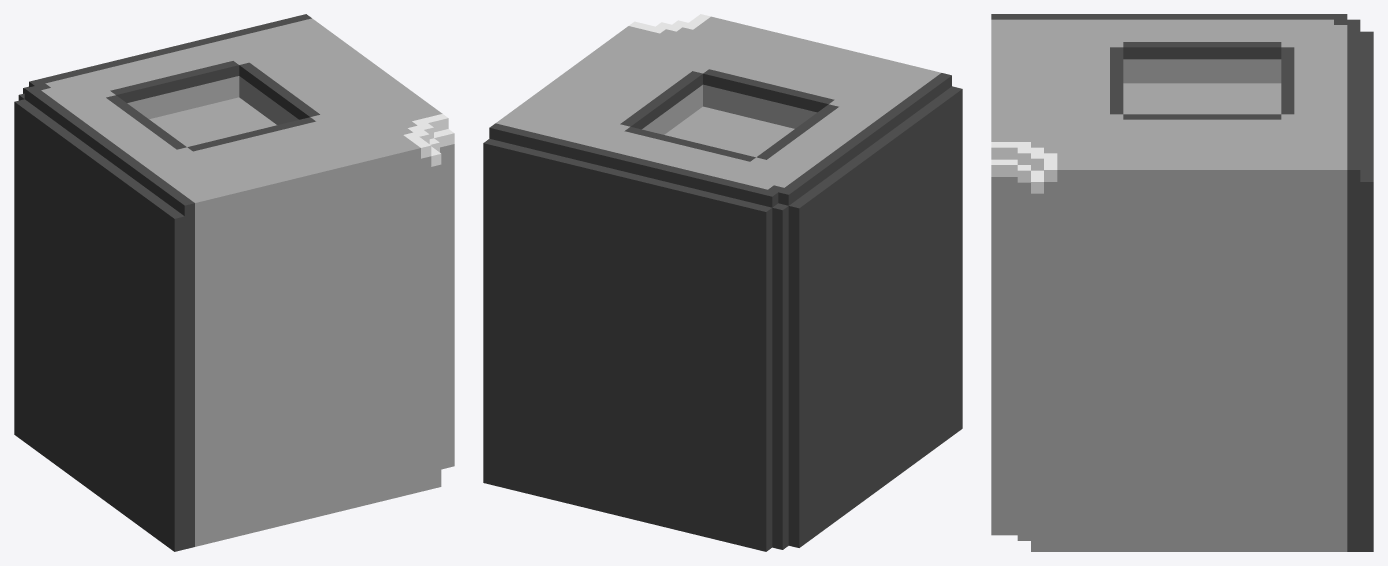
Rendered from CornerNW.obj.
The picture shows the model from 3 angles, left to right: view 1: azimuth 30°, elevation 25°; view 2: azimuth 150°, elevation 25°; view 3: azimuth 270°, elevation 25°; orthographic projection. The views are drawn at different scales.
Bounding box in the file's own units: 29 × 32 × 29.
1 material, 1 textured.
